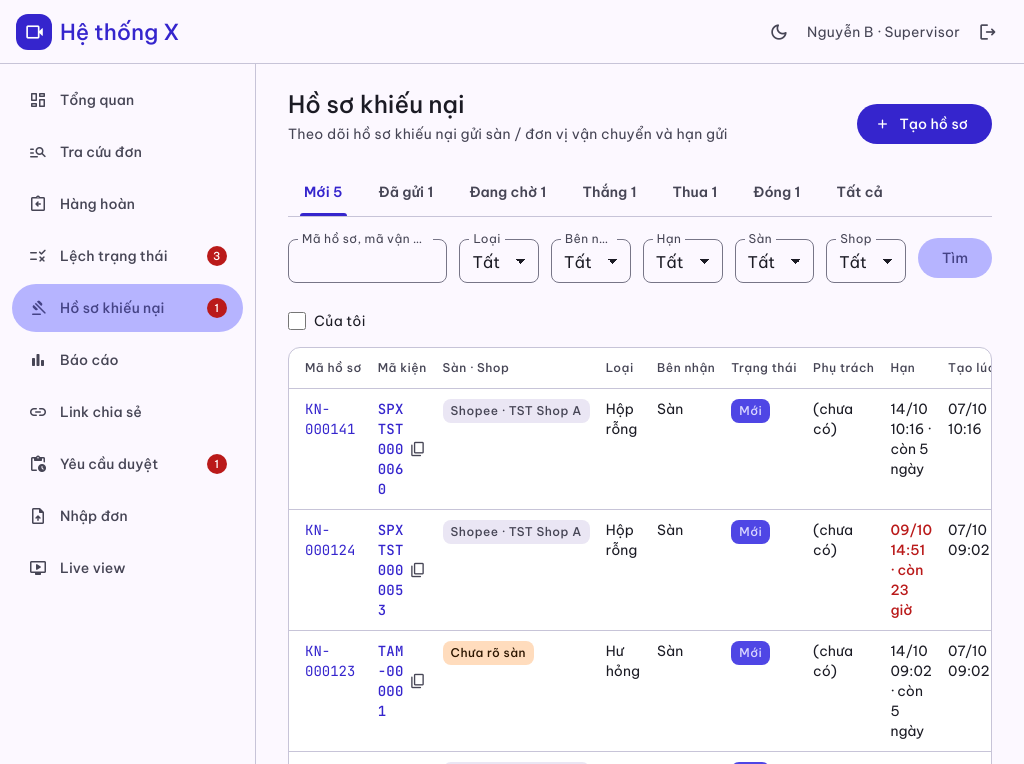
Scenario: tab đổi URL; lọc Quá hạn / Của tôi / loại; Xóa bộ lọc; tab Tất cả
Step 1. Click the tab "Đã gửi 1" → (406, 192), box [363, 168, 449, 216]
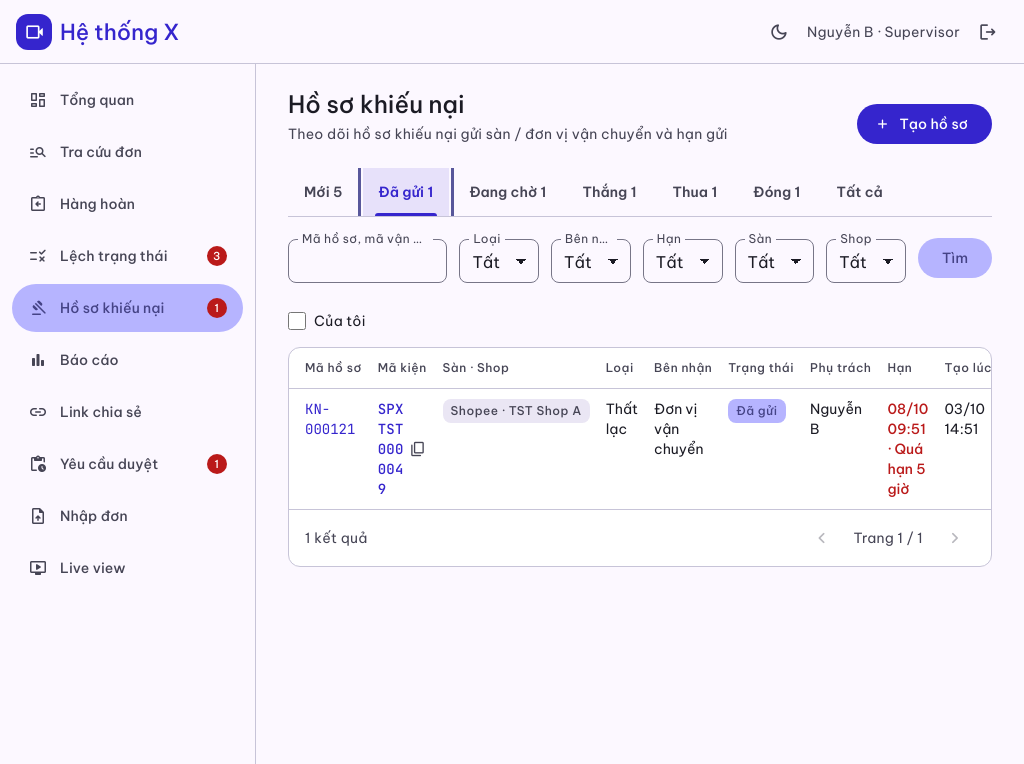
Now the link "KN-000121" is shown, box [305, 400, 355, 438]
Step 2. Select "Quá hạn" in the dropdown labelled "Hạn" → (683, 261), box [643, 239, 722, 283]
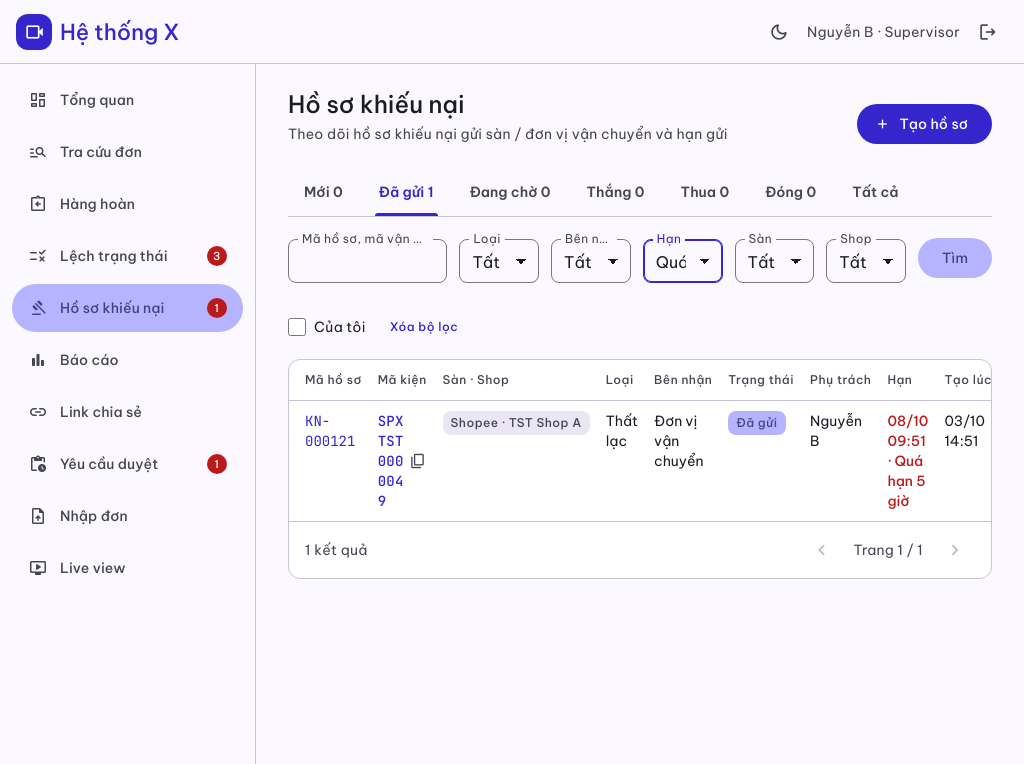
Step 3. Click the checkbox labelled "Của tôi" → (297, 327), box [288, 318, 306, 336]
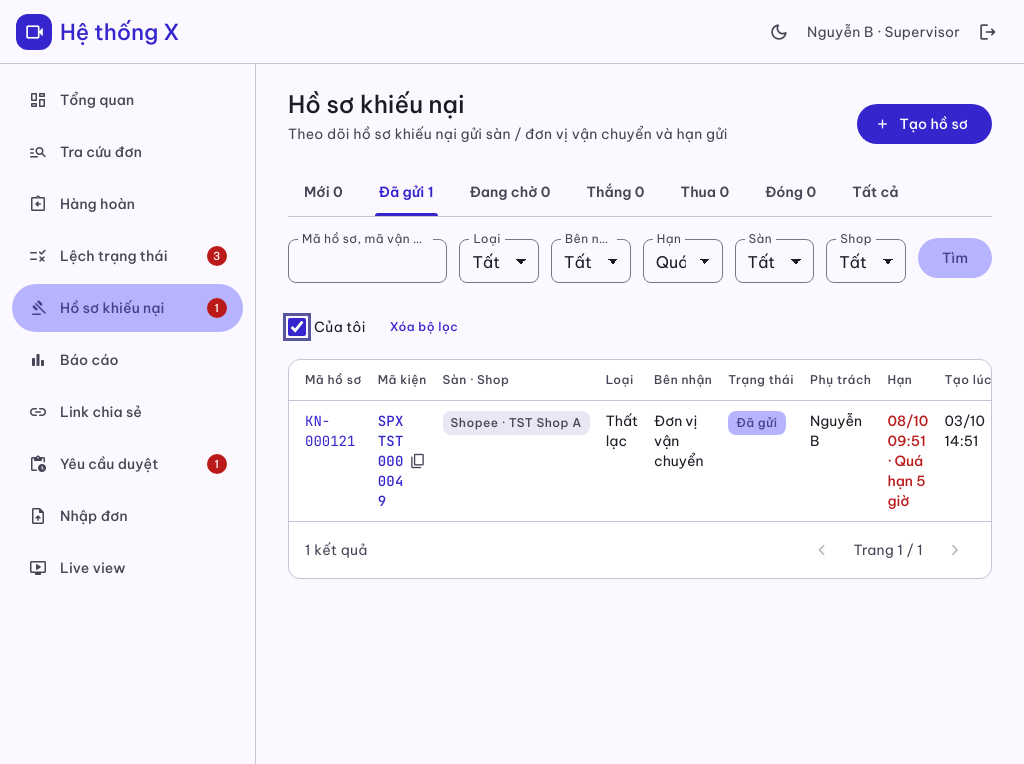
Now the link "KN-000121" is shown, box [305, 412, 355, 450]
Step 4. Select "Hộp rỗng" in the dropdown labelled "Loại" → (499, 261), box [459, 239, 539, 283]
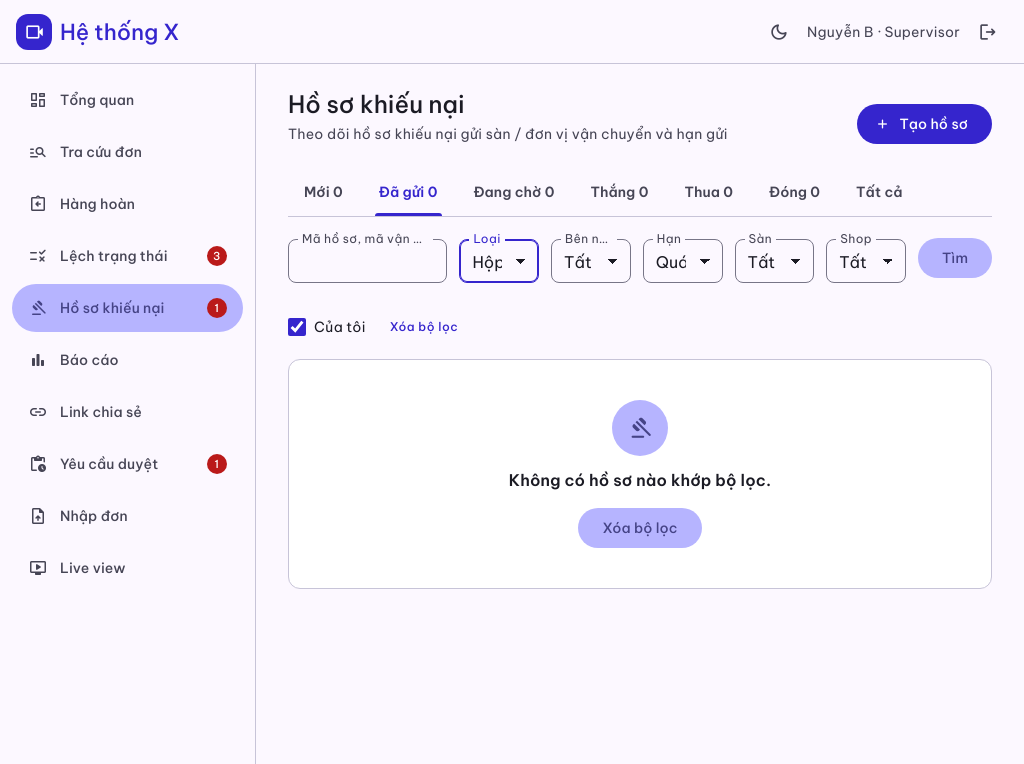
Now the text "Không có hồ sơ nào khớp bộ lọc." is shown, box [509, 468, 771, 492]
Step 5. Click the button "Xóa bộ lọc" next to "Của tôi" → (424, 327), box [374, 311, 474, 343]
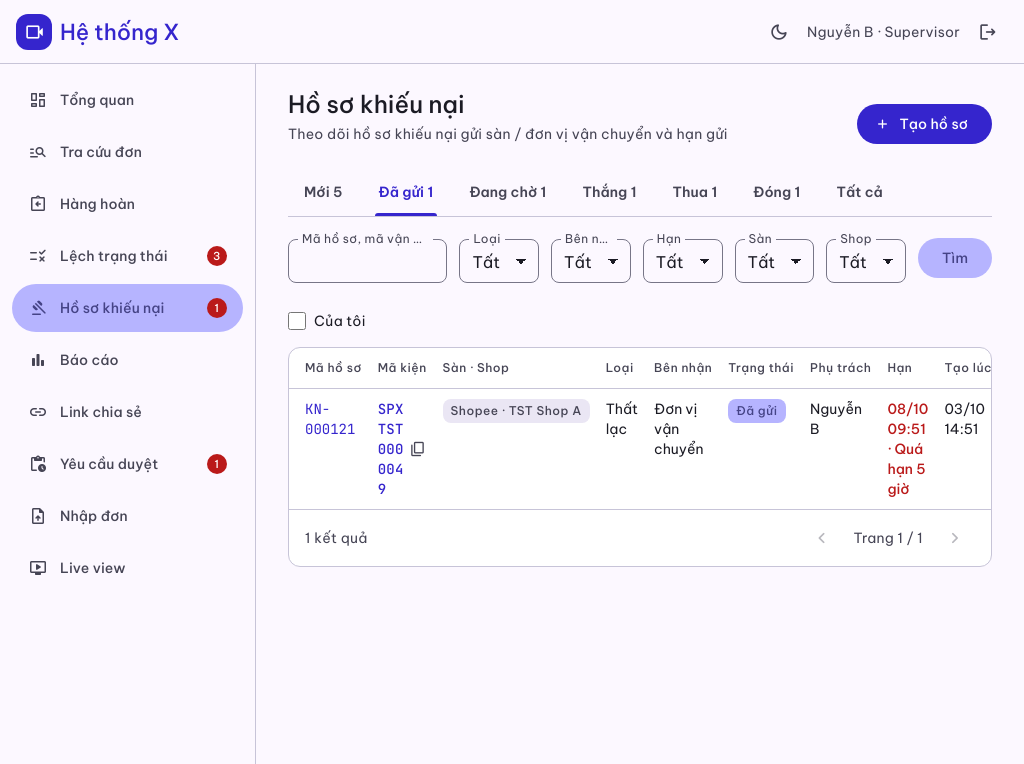
Step 6. Click the tab "Tất cả" → (860, 192), box [820, 168, 899, 216]
(page scrolled)
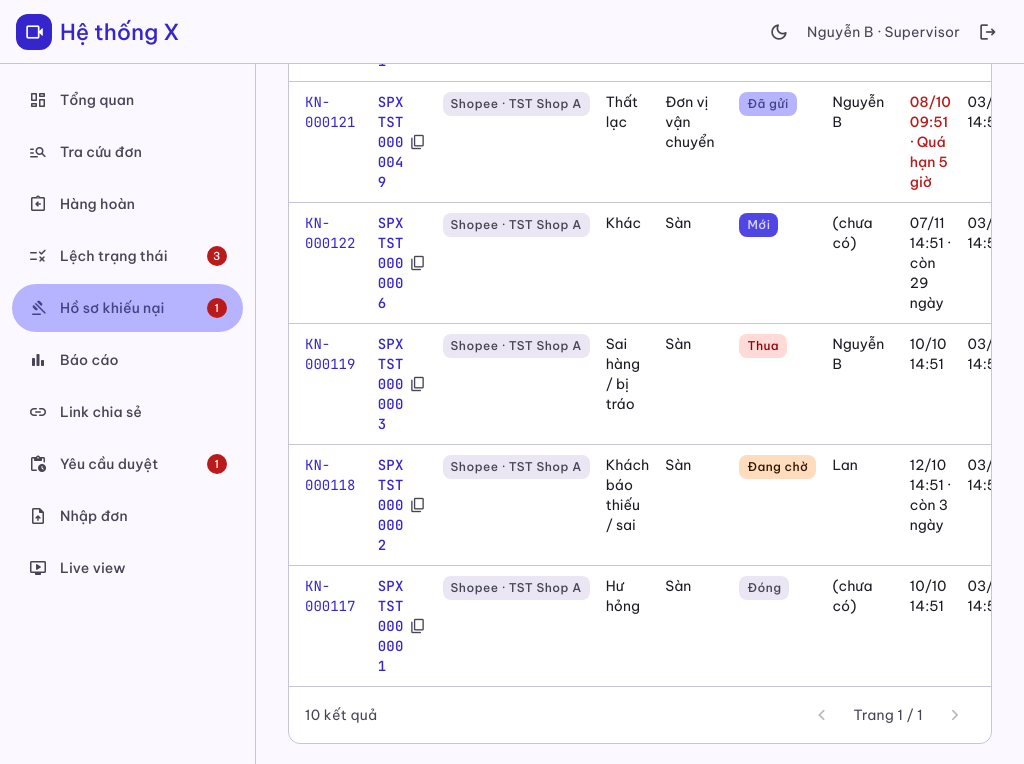
Now the link "KN-000117" is shown, box [305, 577, 355, 615]
